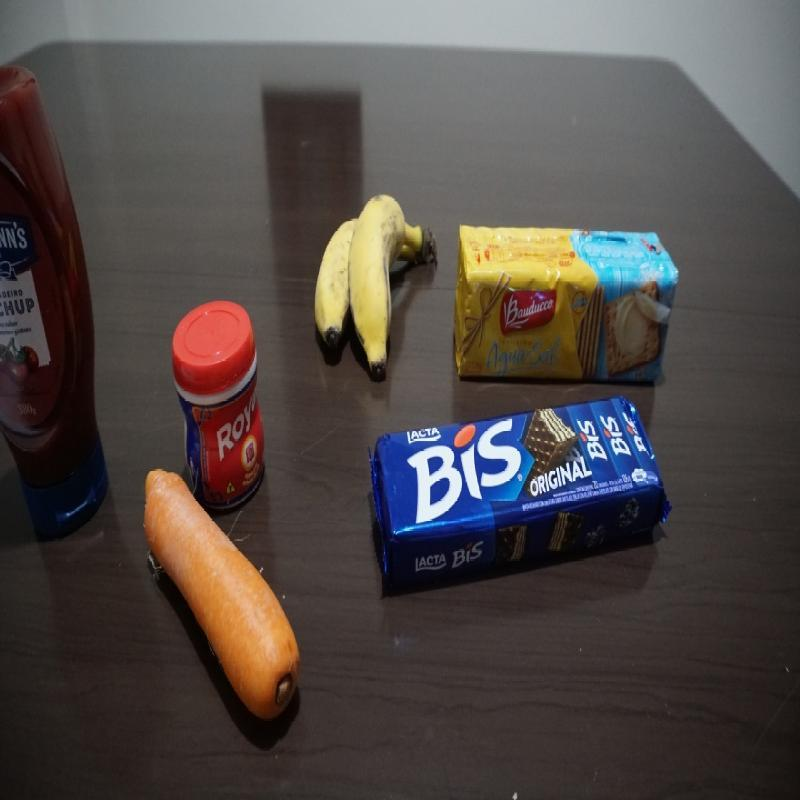Banana: (313, 192, 438, 383)
Carrot: (143, 468, 300, 722)
Cracker: (452, 221, 682, 379)
Ketchup: (0, 61, 110, 546)
Yeast: (170, 297, 267, 512)
